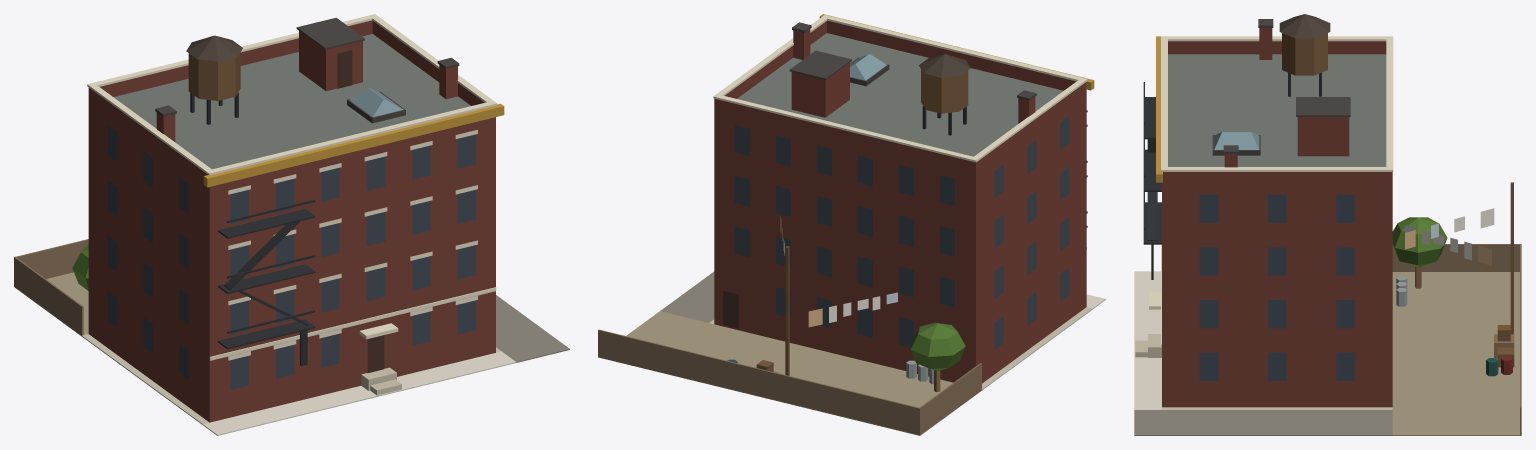
File: apartments_m.glb
3 views of the same model, side by side, from view 1: azimuth 30°, elevation 25°; view 2: azimuth 150°, elevation 25°; view 3: azimuth 270°, elevation 25° (orthographic). The views are drawn at different scales.
Visible parts, largest first — view 1: apartments_m; view 2: apartments_m; view 3: apartments_m.
Part boxes in pixels (box(x1,y1,x2,y2)): apartments_m: box(14, 14, 569, 435); apartments_m: box(598, 14, 1105, 435); apartments_m: box(1134, 14, 1521, 435).
Size of the model in its own units: 30 by 25.51 by 30.
